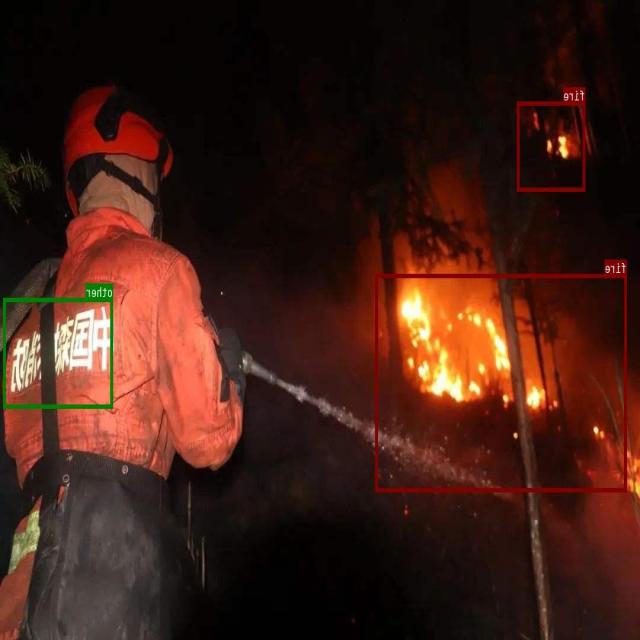fire: (376, 273, 627, 491), (517, 101, 586, 191)
other: (3, 298, 114, 408)
